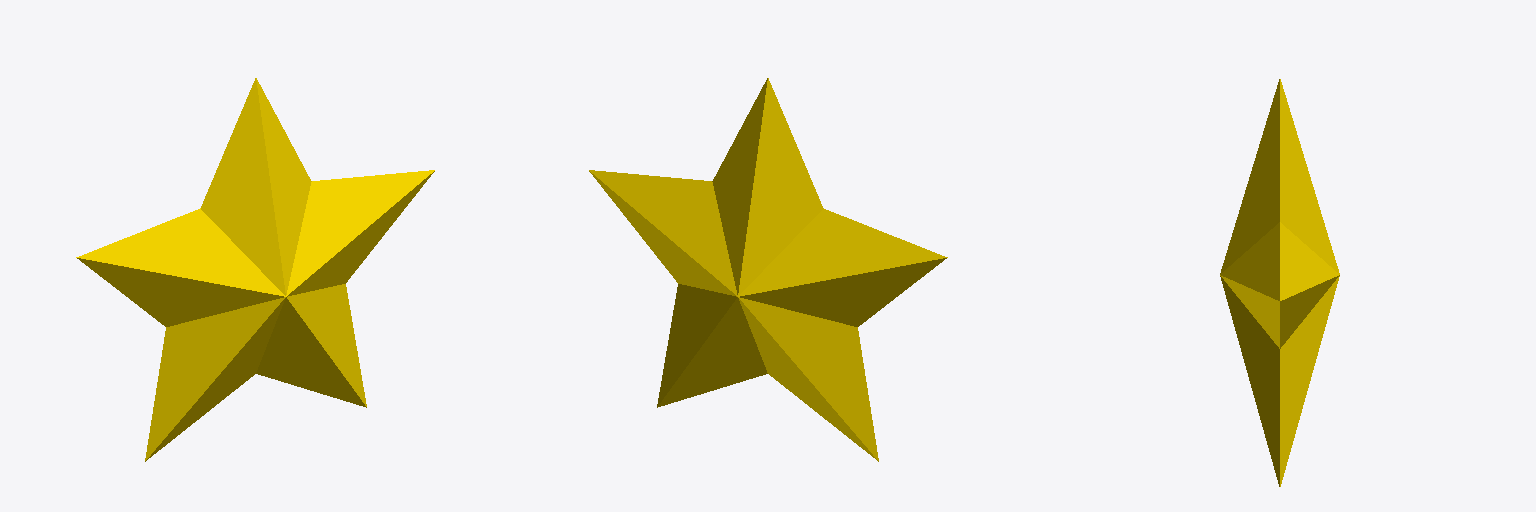
The model's file is Star_Y.obj.
The picture shows the model from 3 angles: view 1: azimuth 30°, elevation 25°; view 2: azimuth 150°, elevation 25°; view 3: azimuth 270°, elevation 25°; orthographic projection.
Visible parts, largest first — view 1: Star_Y; view 2: Star_Y; view 3: Star_Y.
Part boxes in pixels (left/top/right/bottom): Star_Y: left=76, top=78, right=434, bottom=461; Star_Y: left=589, top=78, right=947, bottom=461; Star_Y: left=1220, top=79, right=1339, bottom=486.
Size of the model in its own units: 19.02 by 18.09 by 5.51.